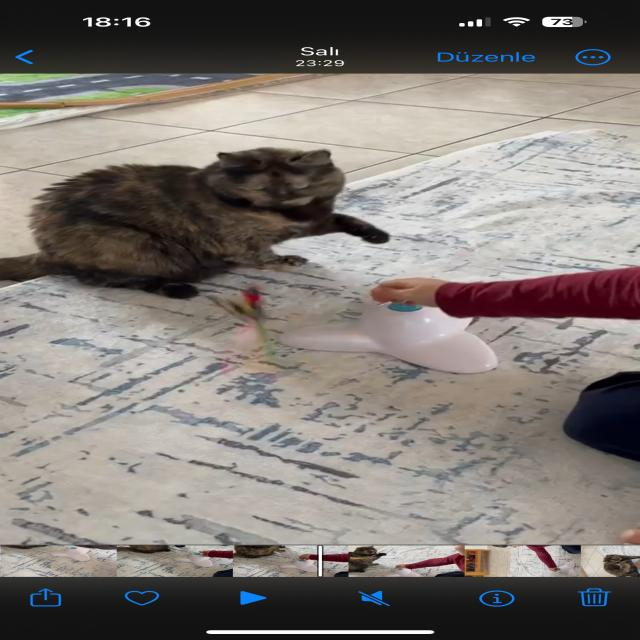authorized: (1, 146, 390, 300), (296, 546, 386, 572), (601, 554, 639, 577)
